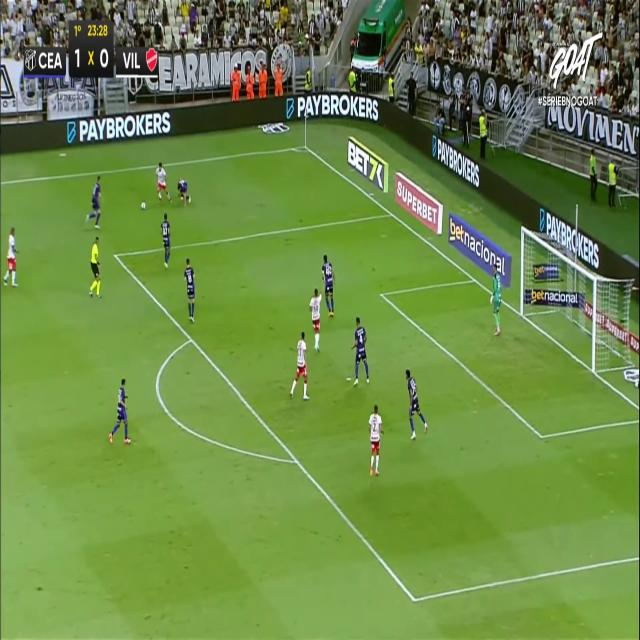ball: (141, 200, 147, 214)
goalkeeper: (490, 263, 502, 334)
player: (405, 368, 428, 439), (108, 378, 131, 445), (350, 316, 370, 386), (290, 330, 309, 399), (368, 403, 383, 476), (3, 226, 19, 286), (86, 174, 103, 228), (309, 287, 322, 352), (321, 253, 334, 316), (183, 257, 195, 323), (156, 161, 172, 202), (160, 211, 171, 268), (177, 177, 192, 205)
referee: (89, 236, 101, 297)
